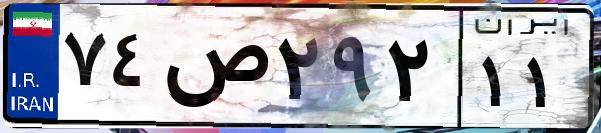1: (475, 38, 525, 113), (525, 38, 570, 115)
2: (270, 28, 330, 110), (385, 28, 445, 110)
4: (110, 28, 158, 98)
7: (57, 26, 110, 100)
9: (330, 28, 385, 110)
ص: (158, 20, 270, 120)
